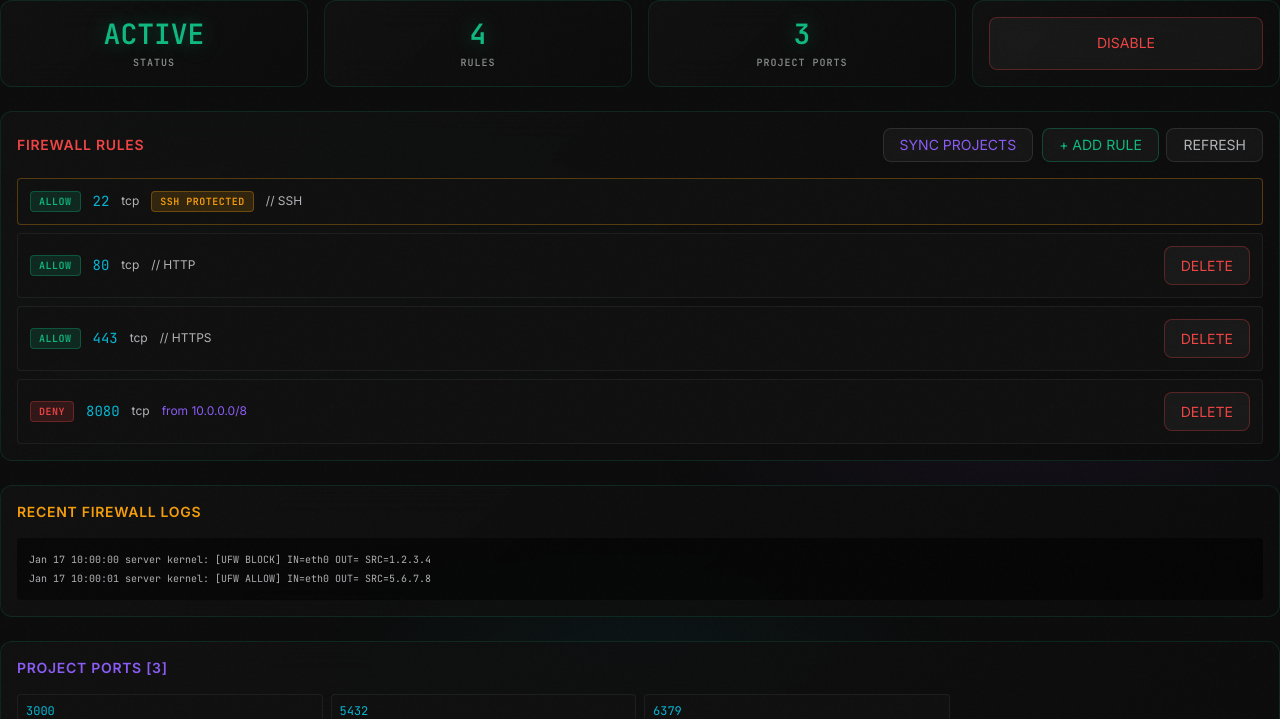
Scenario: FirewallPane › toggle firewall › should show success message after toggle
Click the button "DISABLE" at coordinates (1126, 43), box [989,17,1263,70]
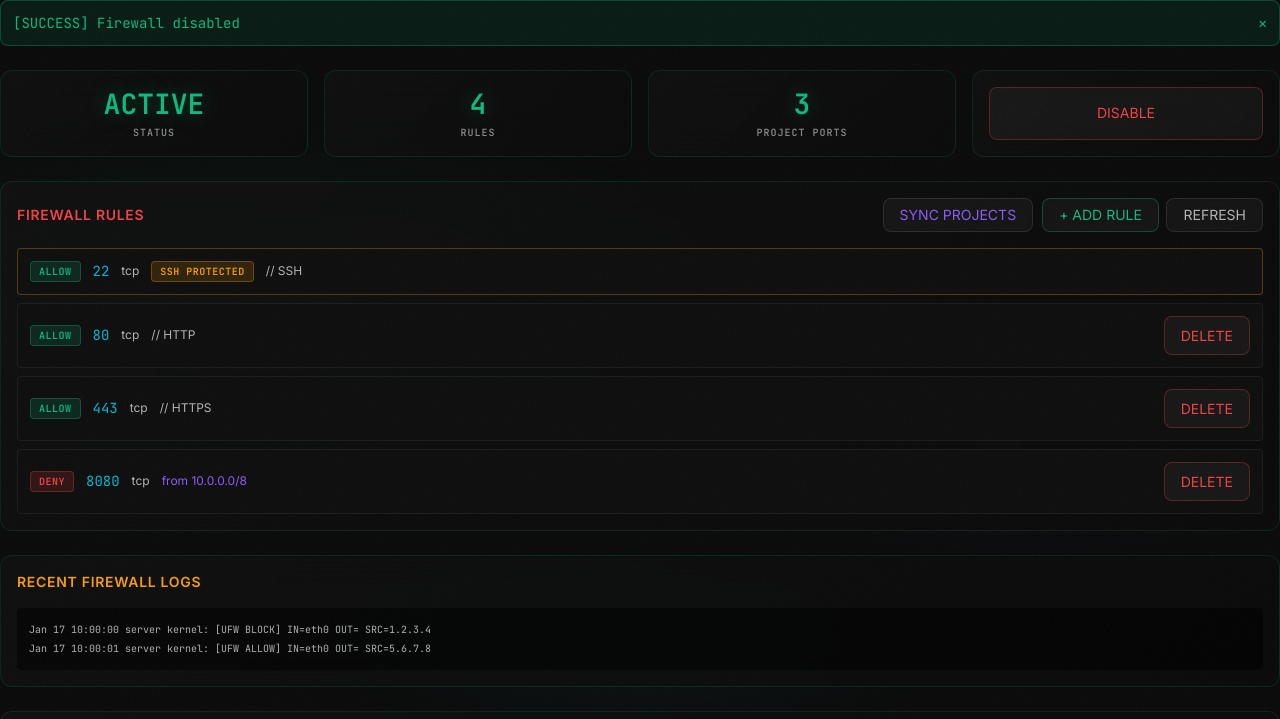
Expected: the text "[SUCCESS] Firewall disabled" is shown, [13,13,240,33]
